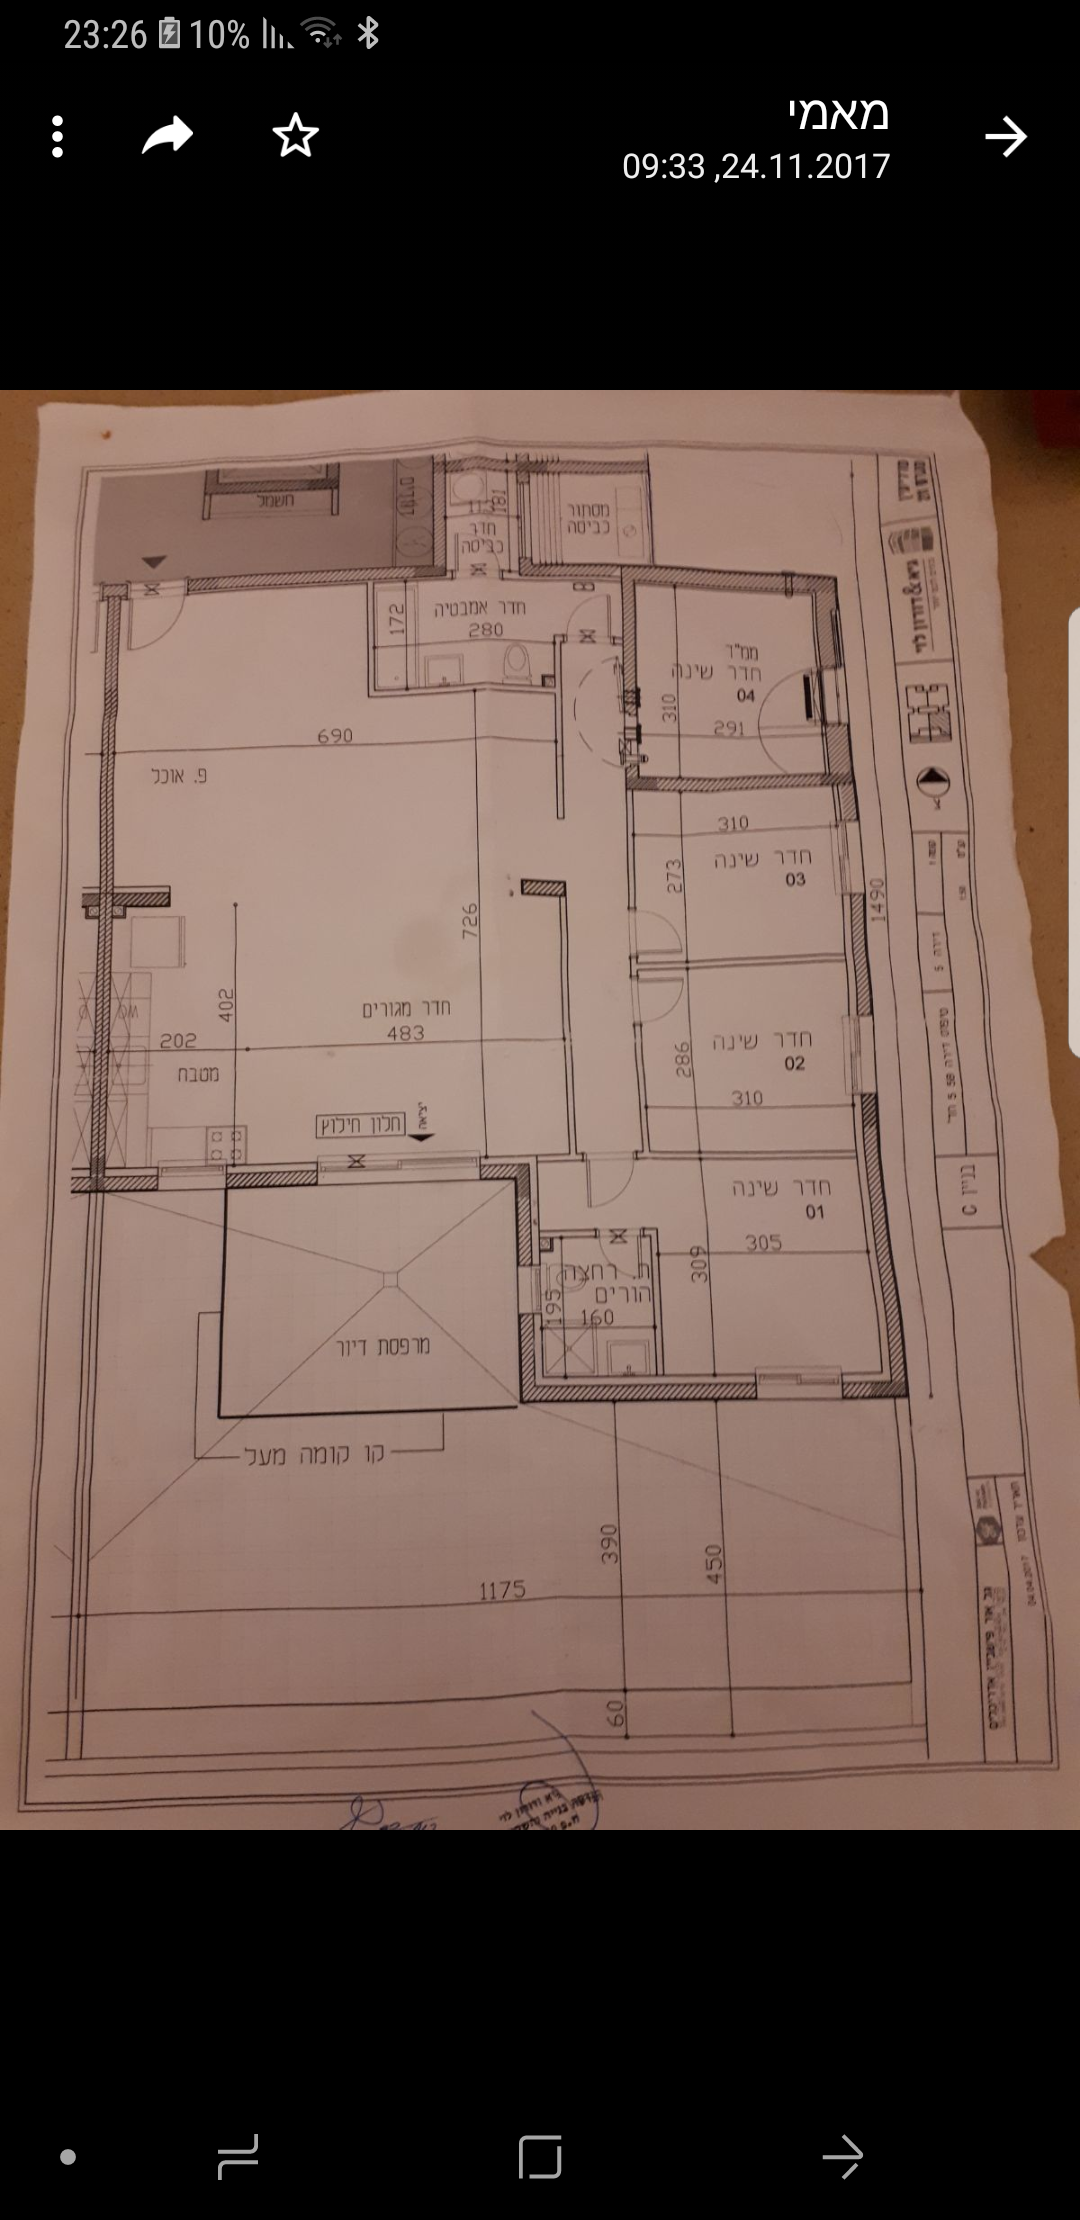door: (125, 590, 200, 663), (585, 1155, 645, 1218), (631, 905, 698, 956), (561, 592, 613, 644), (638, 975, 694, 1025)
wall: (518, 1385, 747, 1402)
